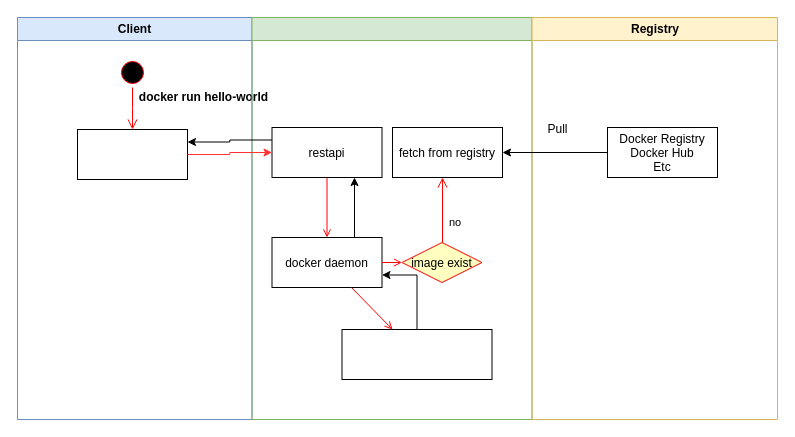
Image size: 795x437. Some labels were removed from this diagram. Each missing label, with the box of its shape:
docker cli: (76, 128, 188, 180)
hello-world-amazing213d container: (341, 328, 492, 380)
Host: (251, 16, 532, 420)
